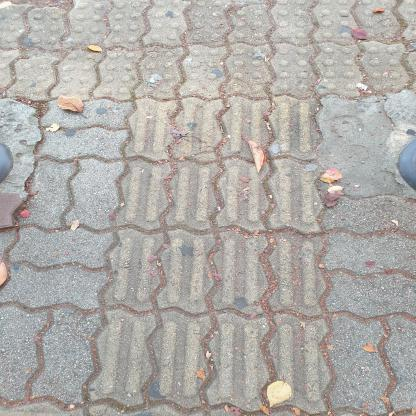podotacti: (78, 93, 348, 415), (0, 0, 415, 104)
